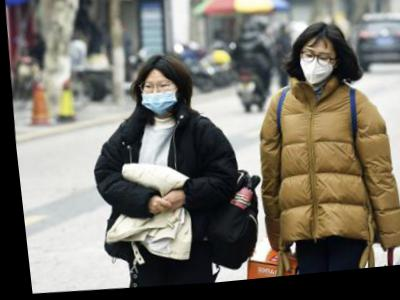OK: (297, 51, 338, 93)
WRONG: (139, 78, 177, 120)
